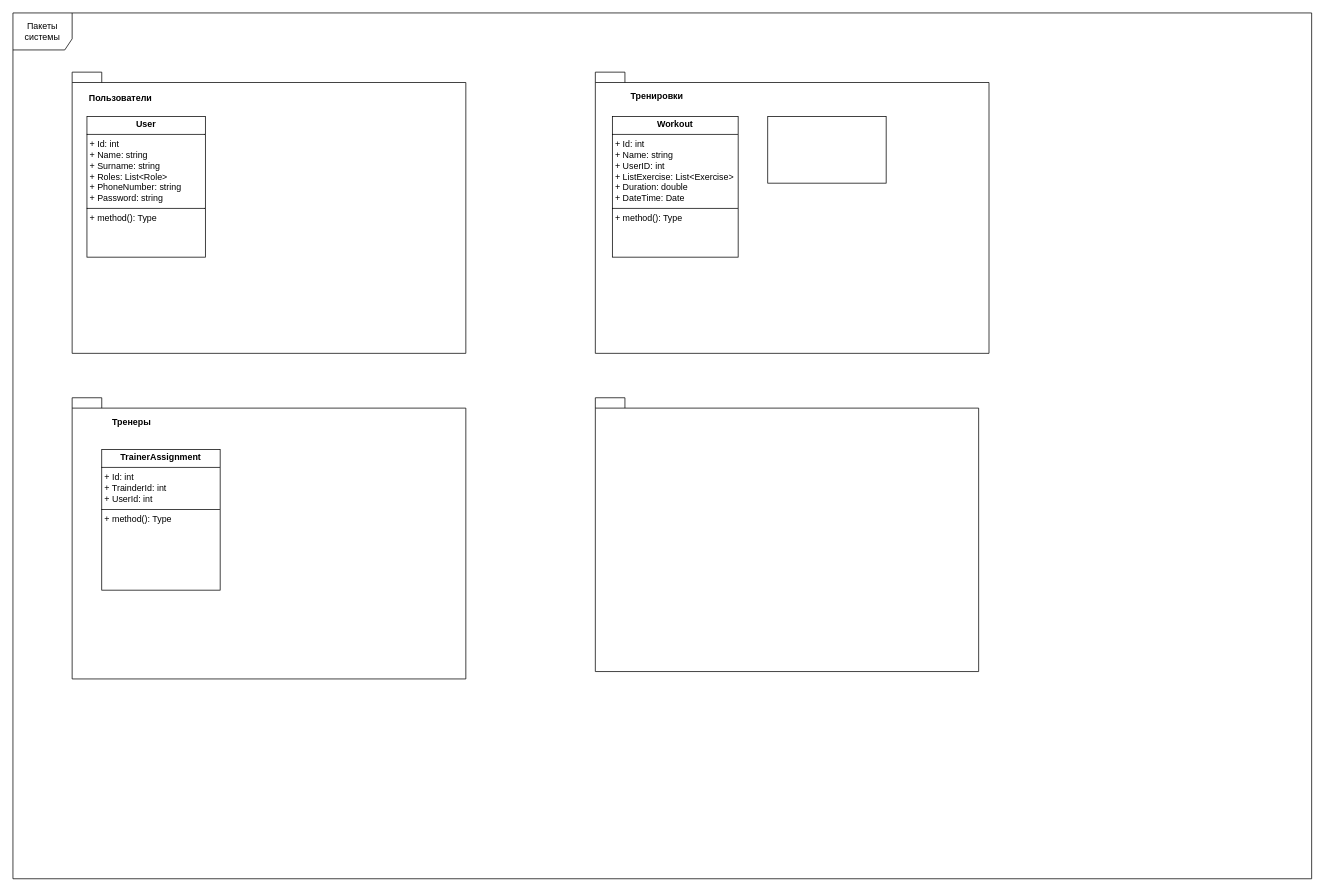
Image size: 1325x892. Some labels were removed from this diagram. Here are the shapes that lost their labels. From the top down, the box of each, then its label:
(767, 116, 886, 183): Exercise + Id: int + Name: string + method(): Type
(595, 397, 979, 672): Прогресс тренировок
